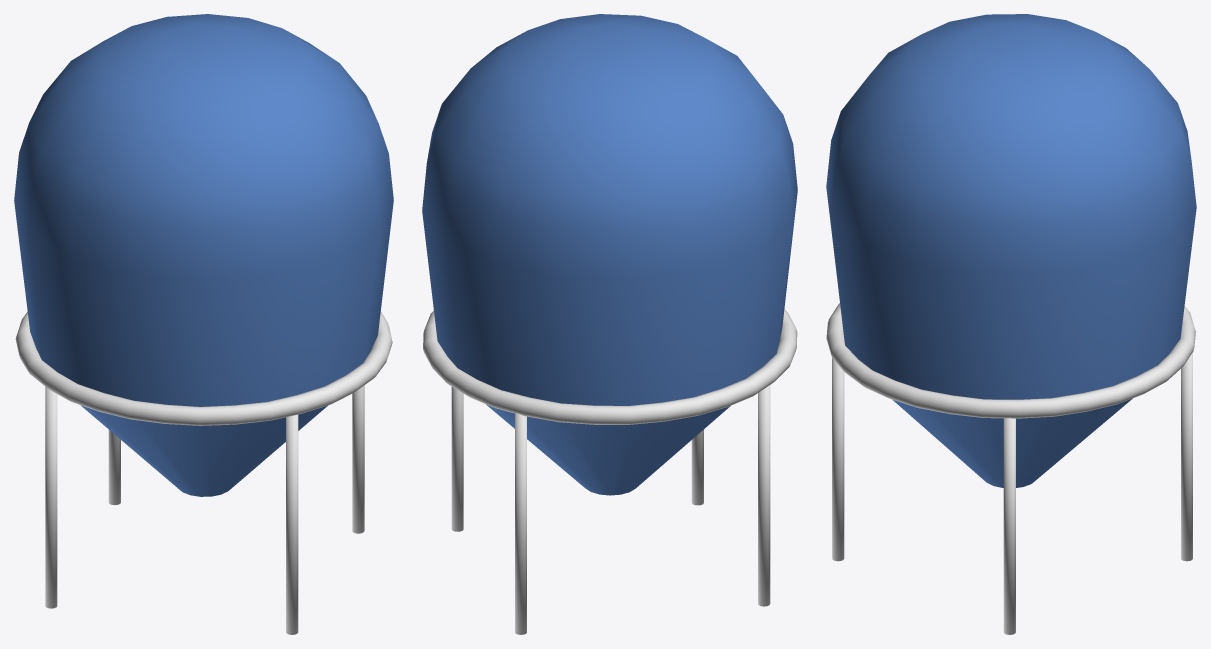
Rendered from BigTanker.fbx.
3 renders of one model, left to right at view 1: azimuth 30°, elevation 25°; view 2: azimuth 150°, elevation 25°; view 3: azimuth 270°, elevation 25°, orthographic.
Parts seen in each view (by area): view 1: BigTanker, BigTankerSupport, BigTankerPillars; view 2: BigTanker, BigTankerSupport, BigTankerPillars; view 3: BigTanker, BigTankerSupport, BigTankerPillars.
Part boxes in pixels (x1,y1,x2,y2): BigTanker: [14, 14, 393, 496]; BigTankerSupport: [15, 311, 392, 425]; BigTankerPillars: [45, 385, 364, 634]; BigTanker: [422, 14, 797, 495]; BigTankerSupport: [423, 309, 797, 424]; BigTankerPillars: [451, 385, 770, 634]; BigTanker: [826, 14, 1196, 487]; BigTankerSupport: [826, 303, 1195, 418]; BigTankerPillars: [832, 352, 1192, 634].
Bounding box in the file's own units: 229 × 229 × 352.
